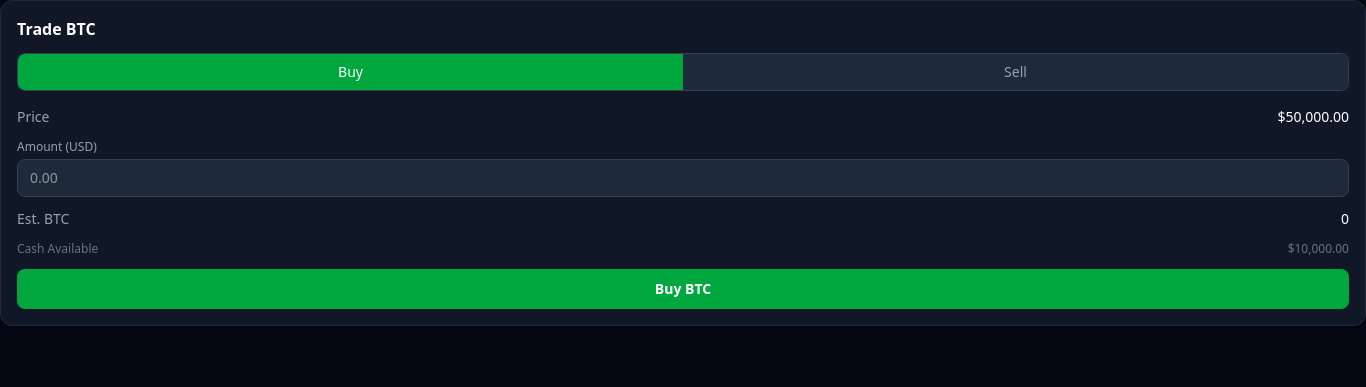
Test: OrderForm › shows error for insufficient cash
The image size is (1366, 387).
In the number field with placeholder "0.00": {"x": 683, "y": 178} [17, 159, 1349, 197], type "999999"
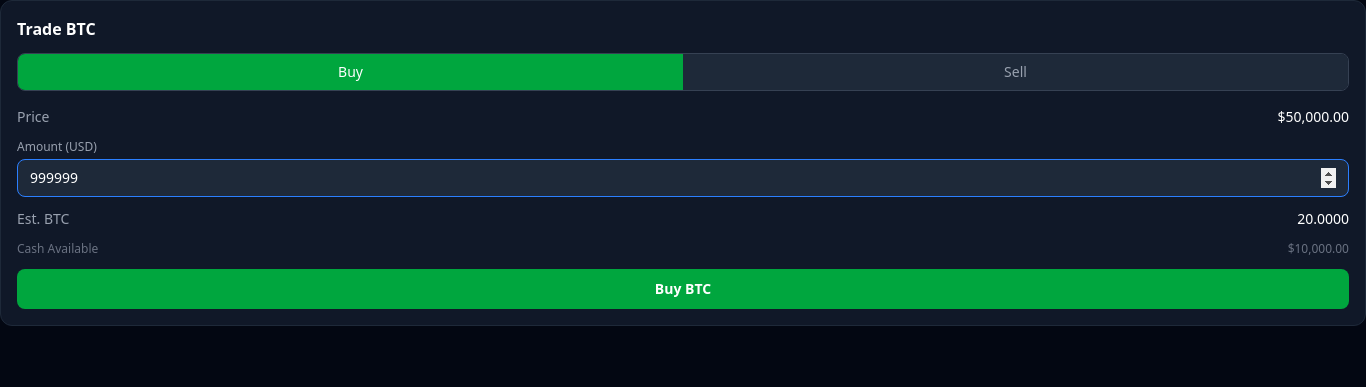
Click the button "Buy BTC": {"x": 683, "y": 289} [17, 269, 1349, 309]
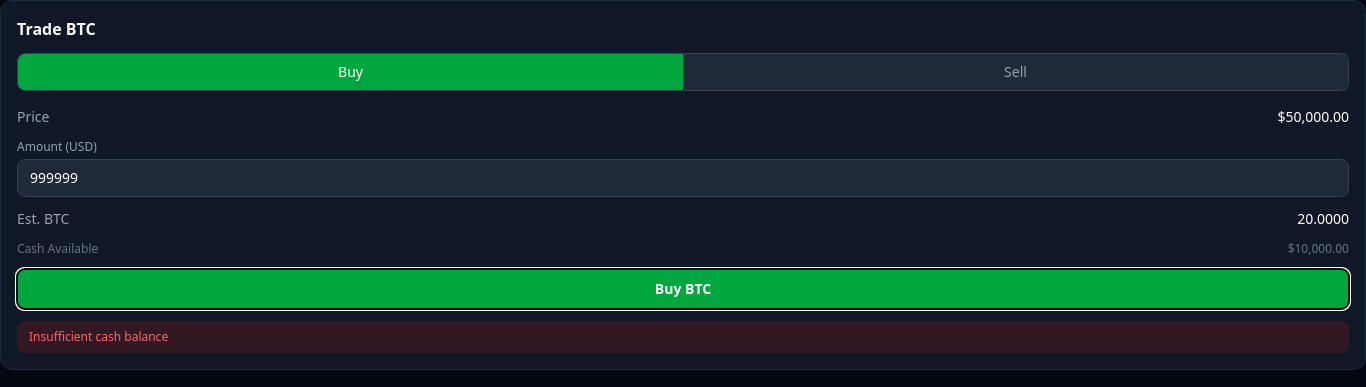
Expected: the text "Insufficient cash balance" is shown, [17, 321, 1349, 353]
